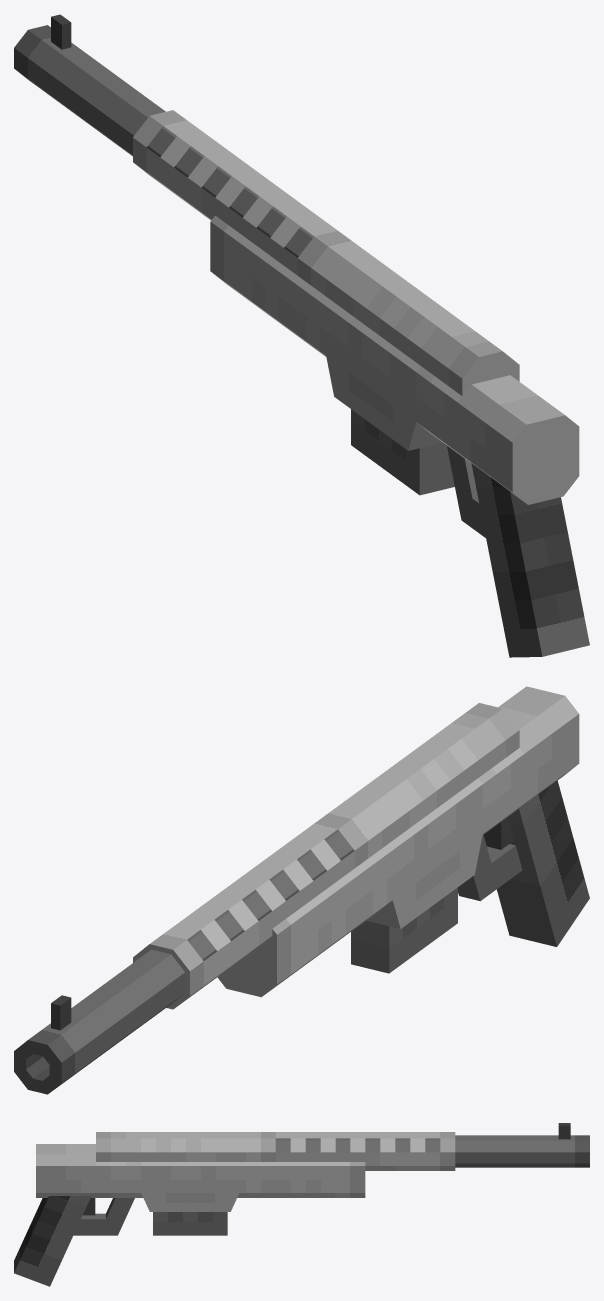
File: rifle.gltf
The picture shows the model from 3 angles, top to bottom: view 1: azimuth 30°, elevation 25°; view 2: azimuth 150°, elevation 25°; view 3: azimuth 270°, elevation 25°; orthographic projection. The views are drawn at different scales.
Parts seen in each view (by area): view 1: cube (×13); view 2: cube (×18); view 3: cube (×17).
Part boxes in pixels (x1=…): cube (×13): x1=14, y1=25, x2=589, y2=657; cube (×18): x1=28, y1=686, x2=589, y2=1083; cube (×17): x1=14, y1=1132, x2=589, y2=1286.
Bounding box in the file's own units: 0.0875 × 0.3597 × 1.2.
1 material, 1 textured.
